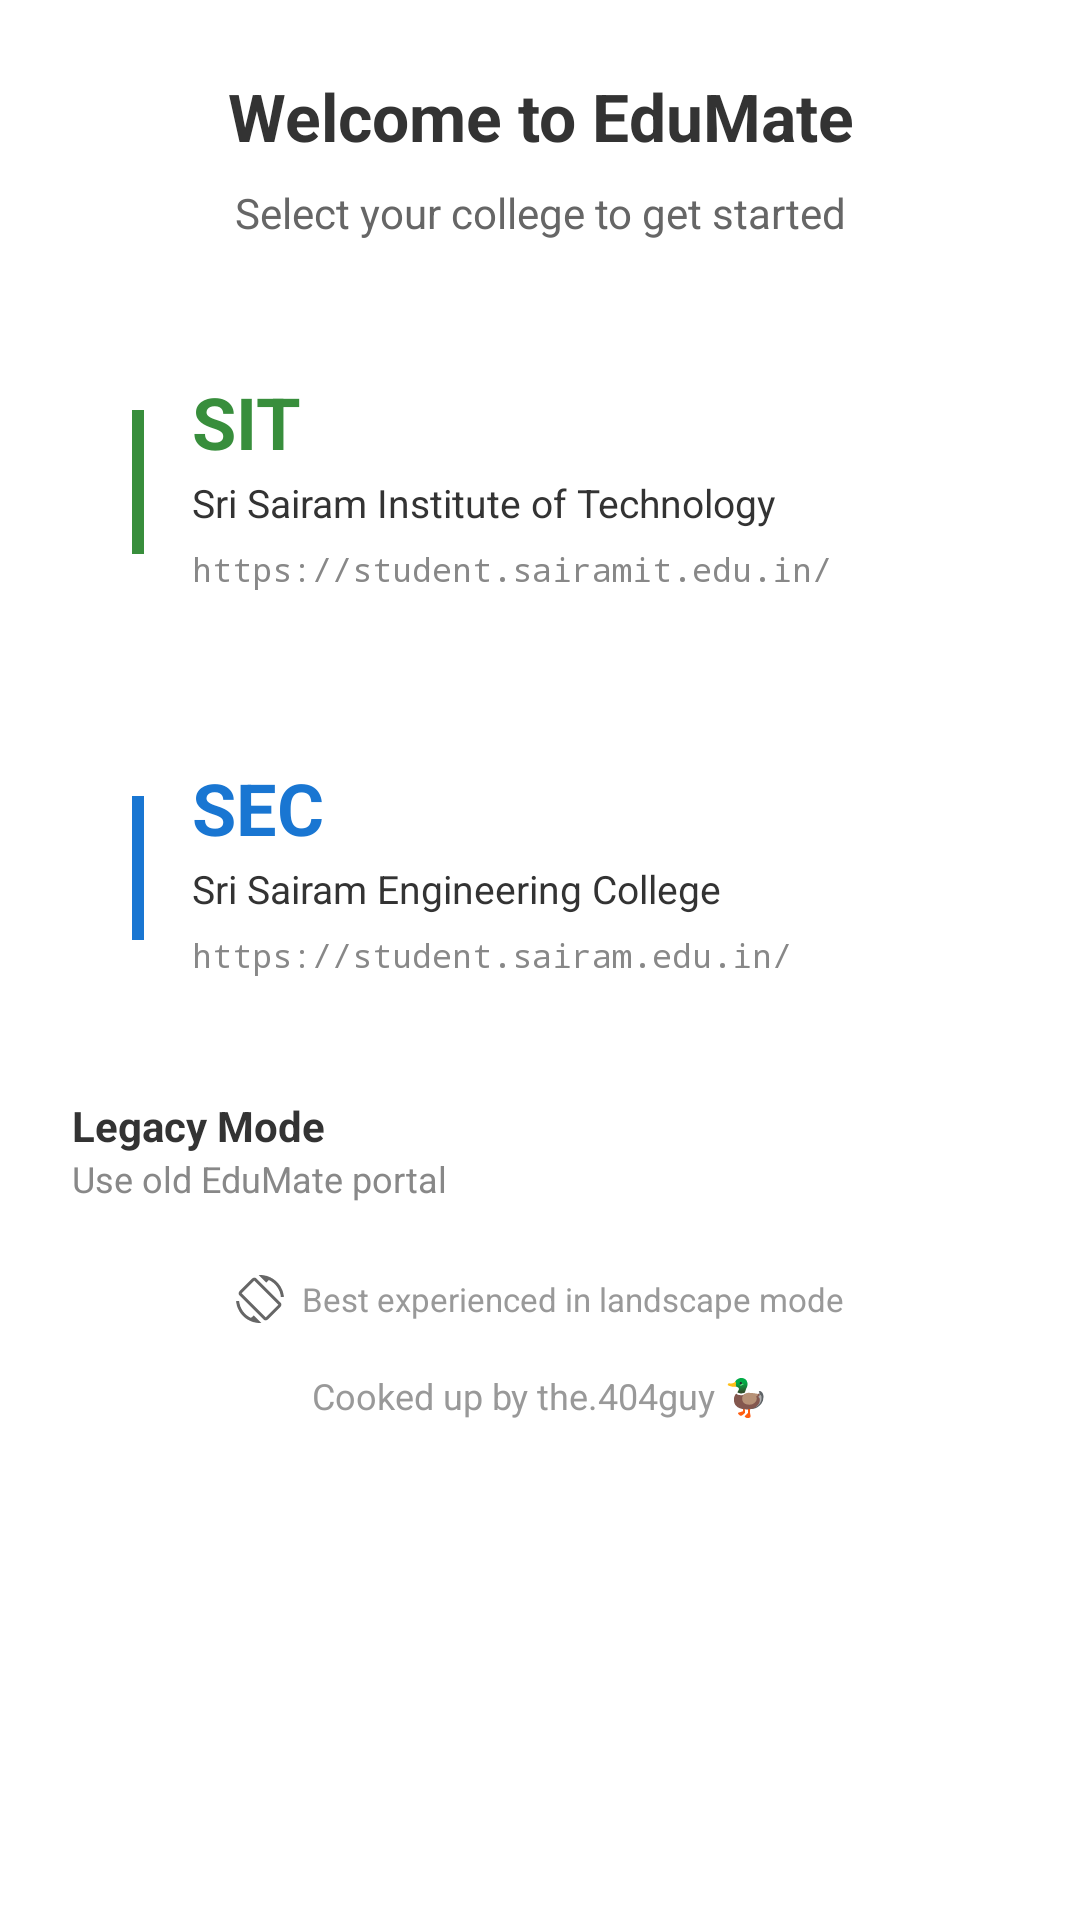

Named icons in this screenshot (1080*1920) and their centers, point (x, y):
Rotate: point (260, 1299)
